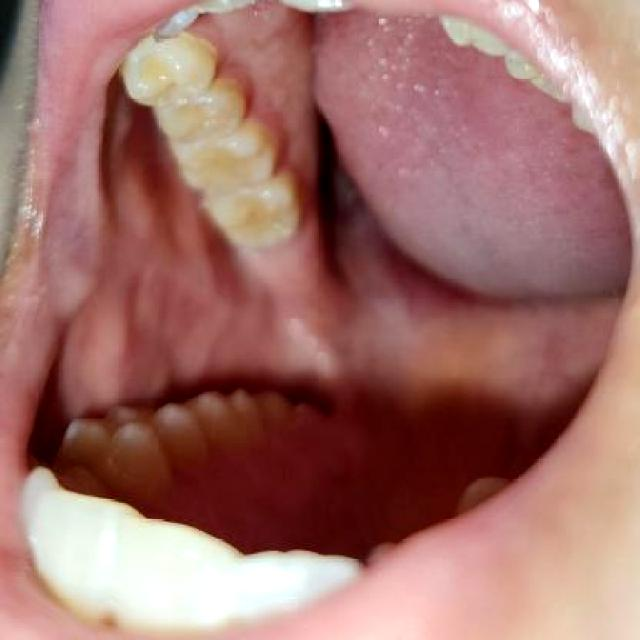Plaque: (232, 105, 317, 241), (203, 59, 276, 114), (175, 18, 236, 78)
